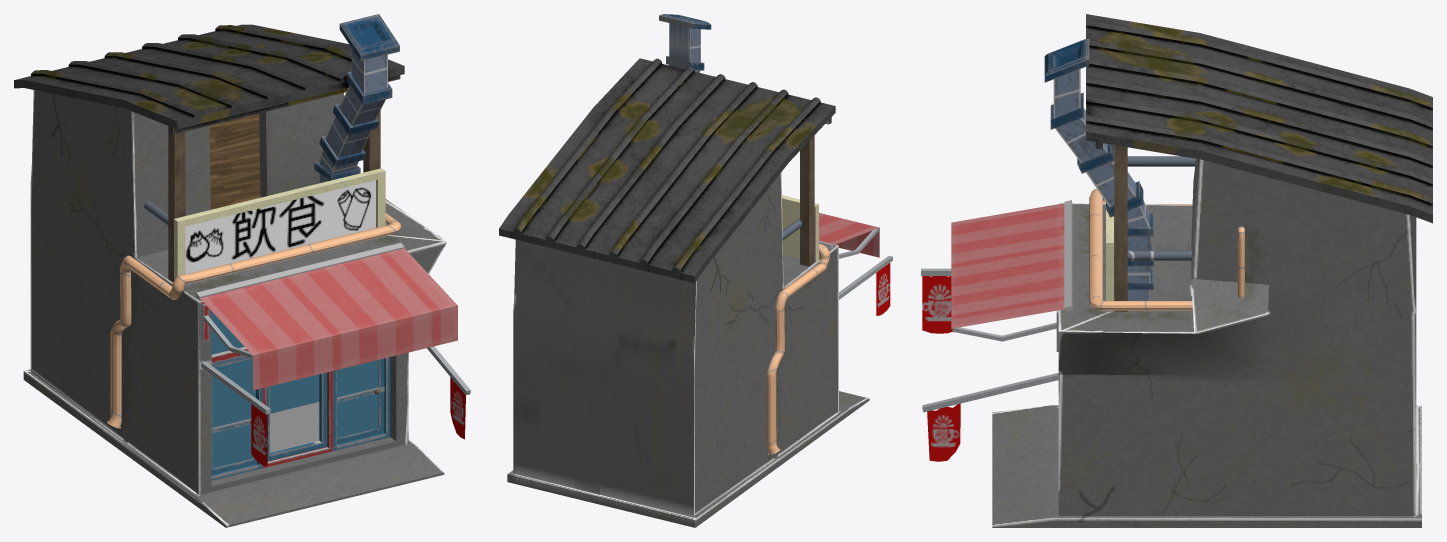
File: Japanese_store2.fbx
3 renders of one model, left to right at view 1: azimuth 30°, elevation 25°; view 2: azimuth 150°, elevation 25°; view 3: azimuth 270°, elevation 25°, orthographic. The views are drawn at different scales.
Visible parts, largest first — view 1: Building; view 2: Building; view 3: Building.
Part boxes in pixels (x1=…): Building: x1=14, y1=14, x2=470, y2=527; Building: x1=499, y1=14, x2=892, y2=527; Building: x1=921, y1=14, x2=1432, y2=527.
Bounding box in the file's own units: 248 × 395 × 398.
1 material, 1 textured.
